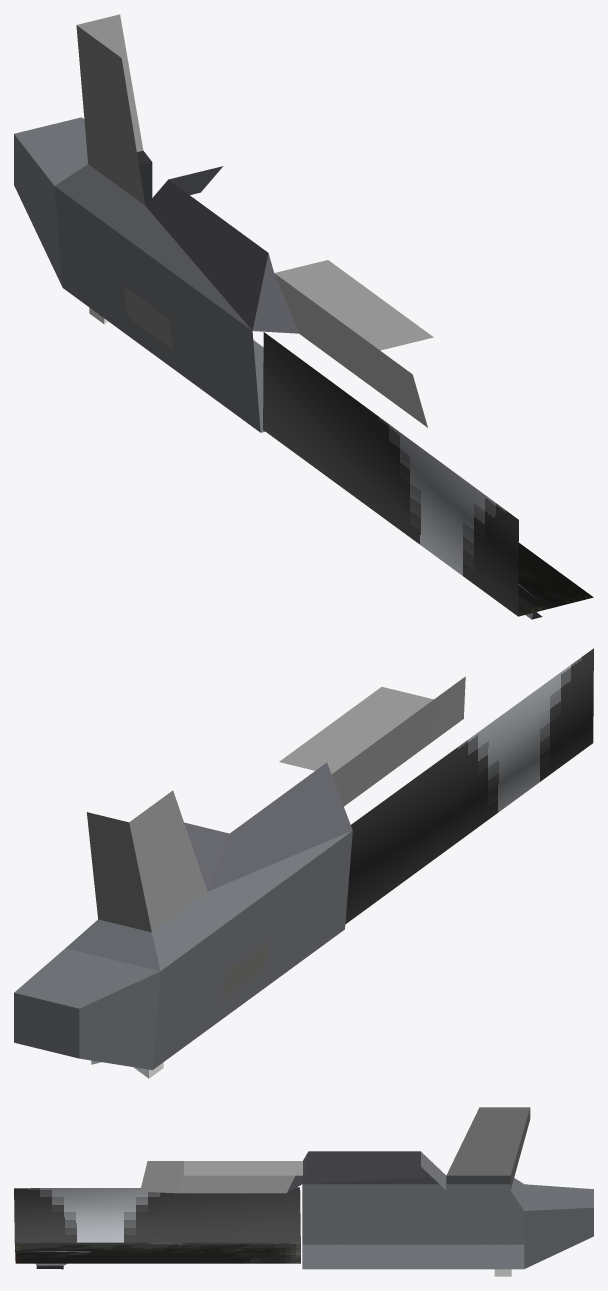
The model's file is SHOTGUN.obj.
3 renders of one model, top to bottom at view 1: azimuth 30°, elevation 25°; view 2: azimuth 150°, elevation 25°; view 3: azimuth 270°, elevation 25°, orthographic. The views are drawn at different scales.
Visible parts, largest first — view 1: SHOTGUN_pistol_q2_SS_v1_0000_submodel00_mesh0000.003; view 2: SHOTGUN_pistol_q2_SS_v1_0000_submodel00_mesh0000.003; view 3: SHOTGUN_pistol_q2_SS_v1_0000_submodel00_mesh0000.003.
Part boxes in pixels (x1,y1,x2,y2): SHOTGUN_pistol_q2_SS_v1_0000_submodel00_mesh0000.003: [14, 14, 593, 619]; SHOTGUN_pistol_q2_SS_v1_0000_submodel00_mesh0000.003: [14, 648, 593, 1078]; SHOTGUN_pistol_q2_SS_v1_0000_submodel00_mesh0000.003: [14, 1107, 593, 1276].
Size of the model in its own units: 0.713 by 1.92 by 6.53.
